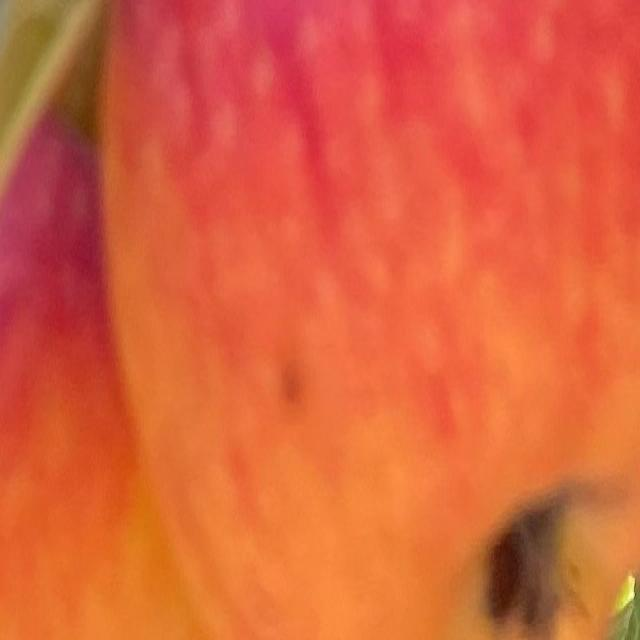Apples: (102, 0, 639, 638), (0, 117, 200, 638)
